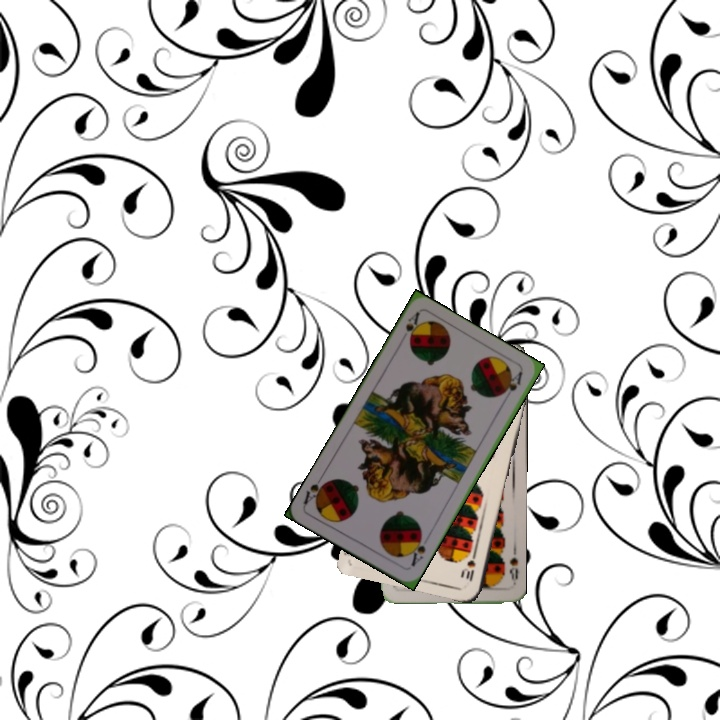S10: (462, 547, 479, 584)
S8: (506, 553, 520, 587)
SA: (406, 530, 428, 569), (401, 308, 423, 345)
